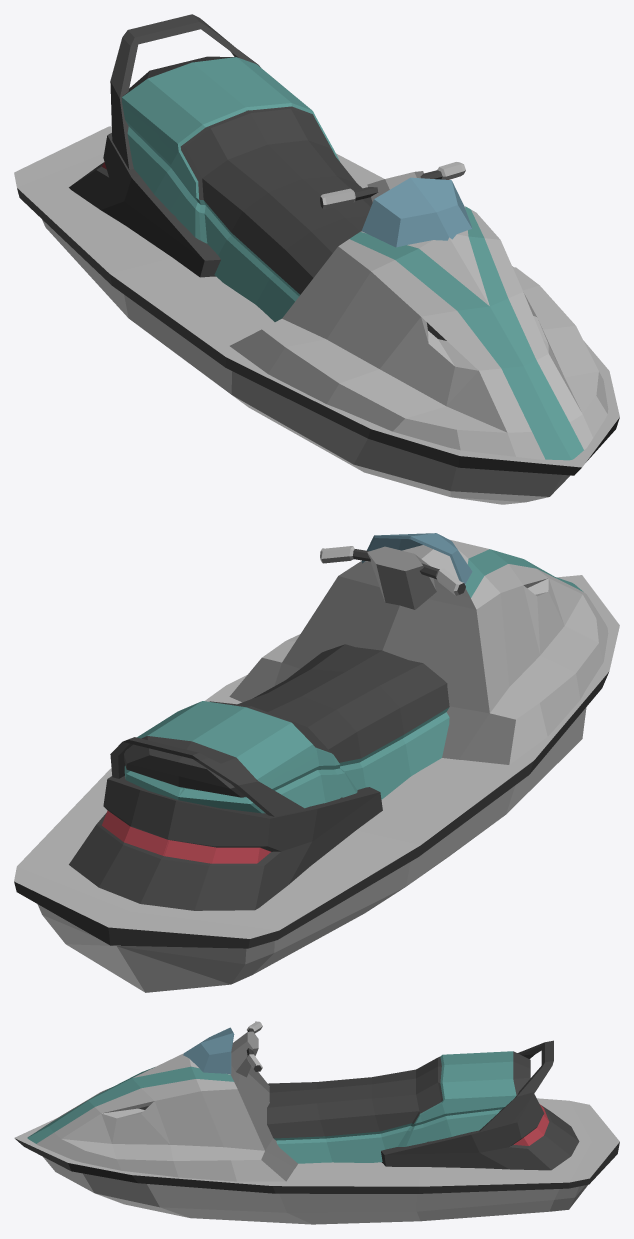
File: Jetski C.fbx
3 renders of one model, top to bottom at view 1: azimuth 30°, elevation 25°; view 2: azimuth 150°, elevation 25°; view 3: azimuth 270°, elevation 25°, orthographic. The views are drawn at different scales.
Visible parts, largest first — view 1: Jetski C; view 2: Jetski C; view 3: Jetski C.
Part boxes in pixels (x1,y1,x2,y2): Jetski C: (14,14,619,504); Jetski C: (14,533,619,992); Jetski C: (14,1021,619,1224).
Size of the model in its own units: 114 by 99.57 by 300.
